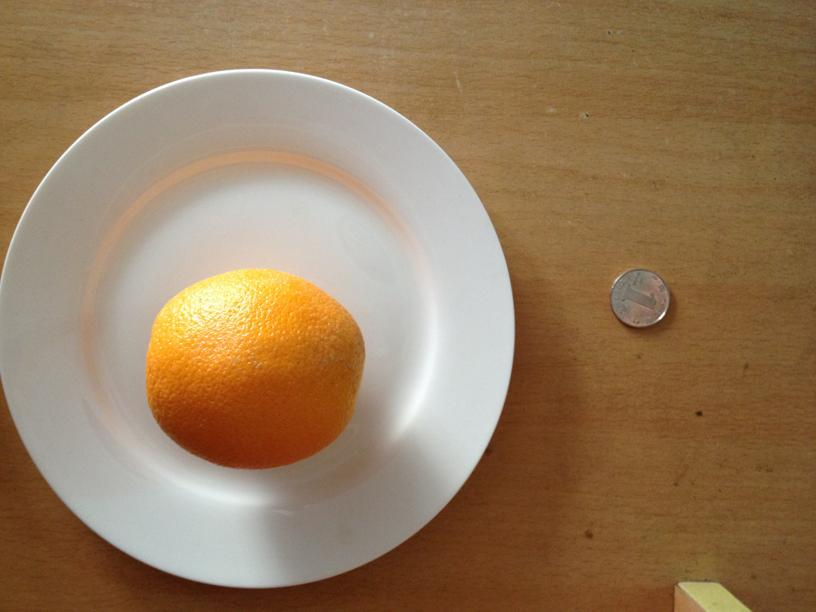coin: (609, 266, 669, 326)
orange: (141, 272, 366, 469)
